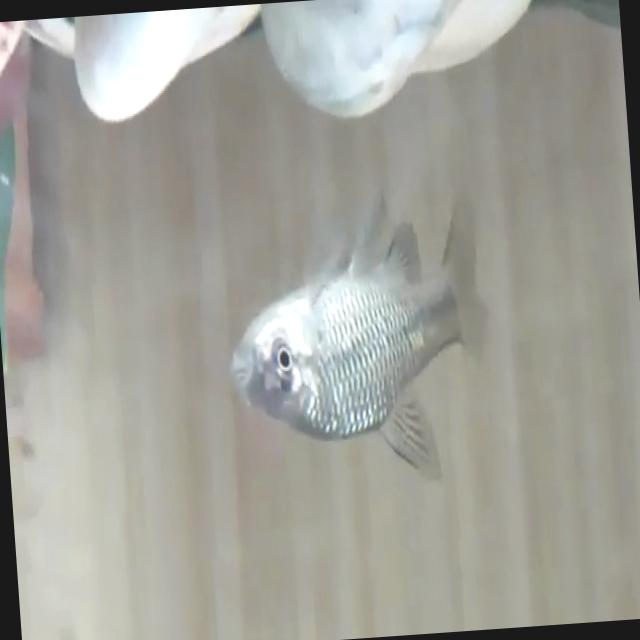Cakil Baligi: (213, 189, 509, 506)
